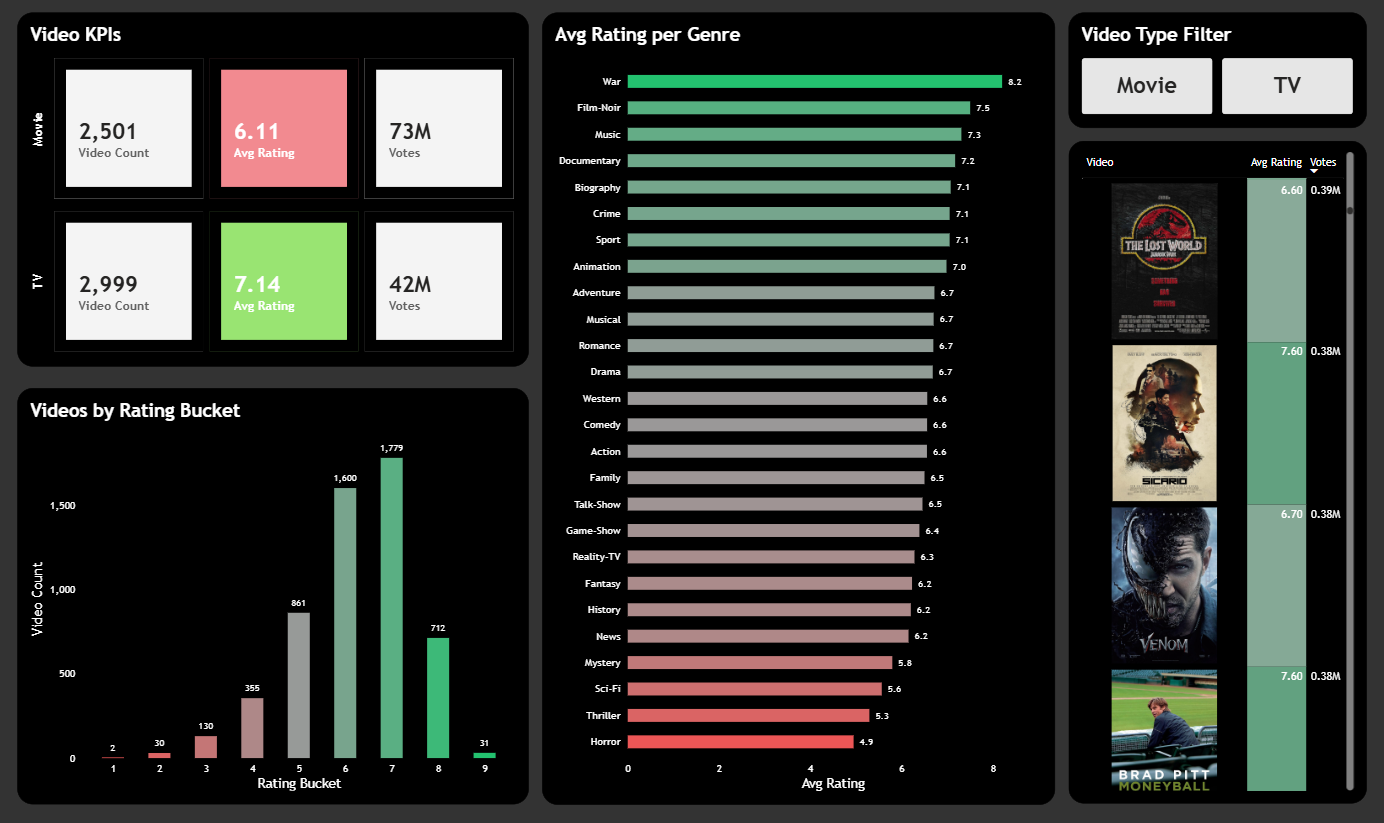

Layout of this report page (visuals, bound fields, positions):
{"tool":"powerbi","page":{"name":"Report","canvas":[1920,1080],"ordinal":1},"visuals":[{"type":"columnChart","title":"Videos by Rating Bucket","fields":{"Category":["netflix_data.rating_bucket"],"Y":["netflix_data.Video Count"]},"box":[24,500,656,534],"z":0},{"type":"cardVisual","title":"Video KPIs","fields":{"Rows":["type_group.type_groupd"],"Data":["netflix_data.Video Count","netflix_data.Avg Rating","netflix_data.Votes"]},"box":[24,18,656,454],"z":1000},{"type":"clusteredBarChart","title":"Avg Rating per Genre","fields":{"Category":["netflix_data.genre"],"Y":["netflix_data.Avg Rating"]},"box":[697.8,18.5,658,1016],"z":2000},{"type":"advancedSlicerVisual","title":"Video Type Filter","fields":{"Values":["type_group.type_groupd"]},"box":[1372.9,18.5,382.9,148.2],"z":3000},{"type":"tableEx","fields":{"Values":["netflix_data.image_url","netflix_data.Avg Rating","netflix_data.Votes"]},"box":[1372.9,183.2,382.9,850.1],"z":4000}]}

Visuals, with their boxes on the page's 1920x1080 design canvas (x1, y1, x2, y2). These are canvas units, not pixel positions in the 1384x823 screenshot, which may show the page scaled, cropped or inside an application window:
"Videos by Rating Bucket" columnChart: (24, 500, 680, 1034)
"Video KPIs" cardVisual: (24, 18, 680, 472)
"Avg Rating per Genre" clusteredBarChart: (698, 18, 1356, 1034)
"Video Type Filter" advancedSlicerVisual: (1373, 18, 1756, 167)
tableEx - netflix_data.image_url x netflix_data.Avg Rating: (1373, 183, 1756, 1033)
